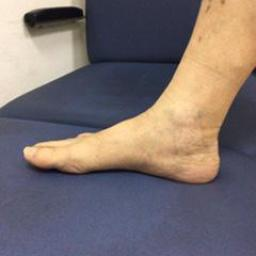Medial View -Right Foot-: (18, 65, 248, 194)
